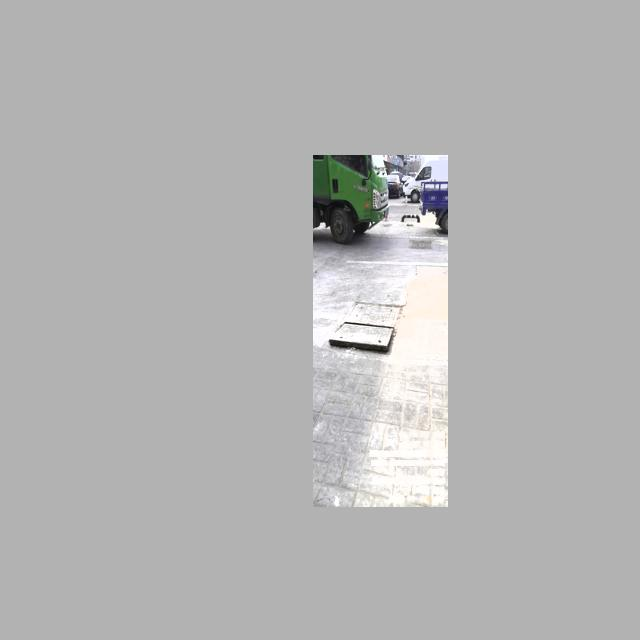uncovered: (329, 302, 402, 355)
